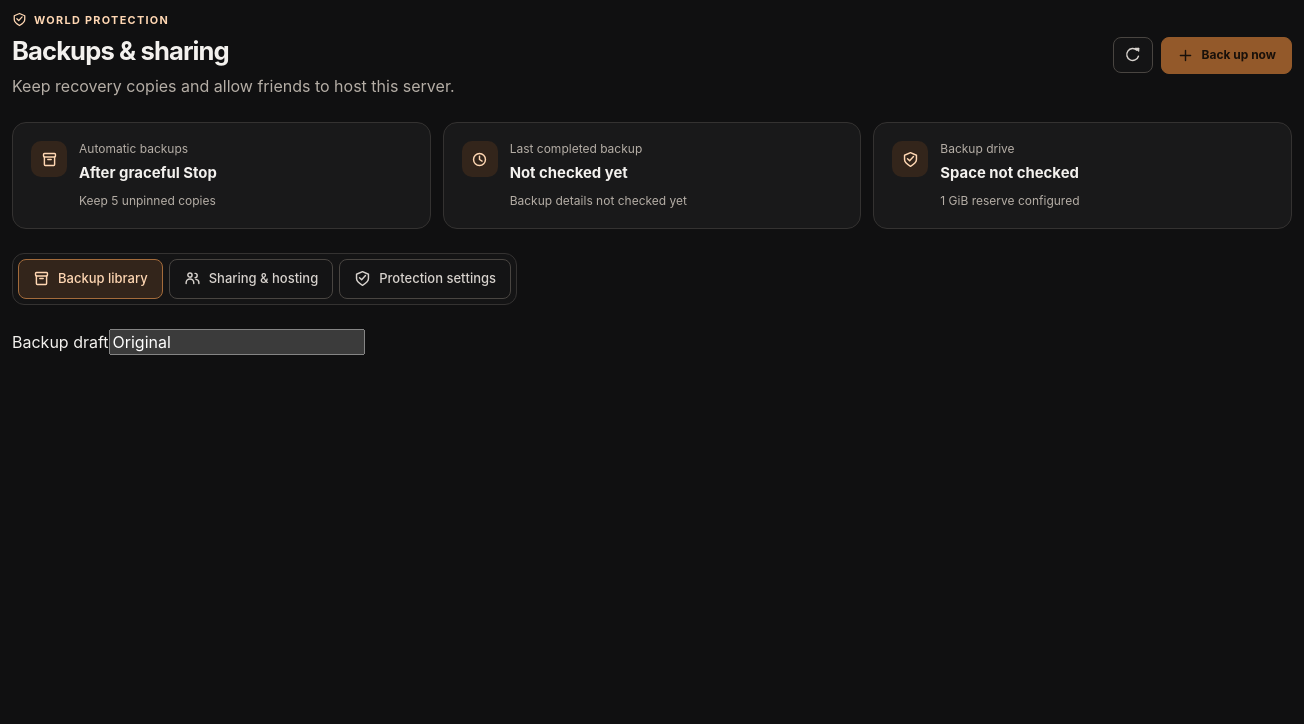
it: Host world protection workspace › keeps disposable trial protection read-only
Click the button "Protection settings". click: (425, 279)
box: [339, 259, 511, 299]
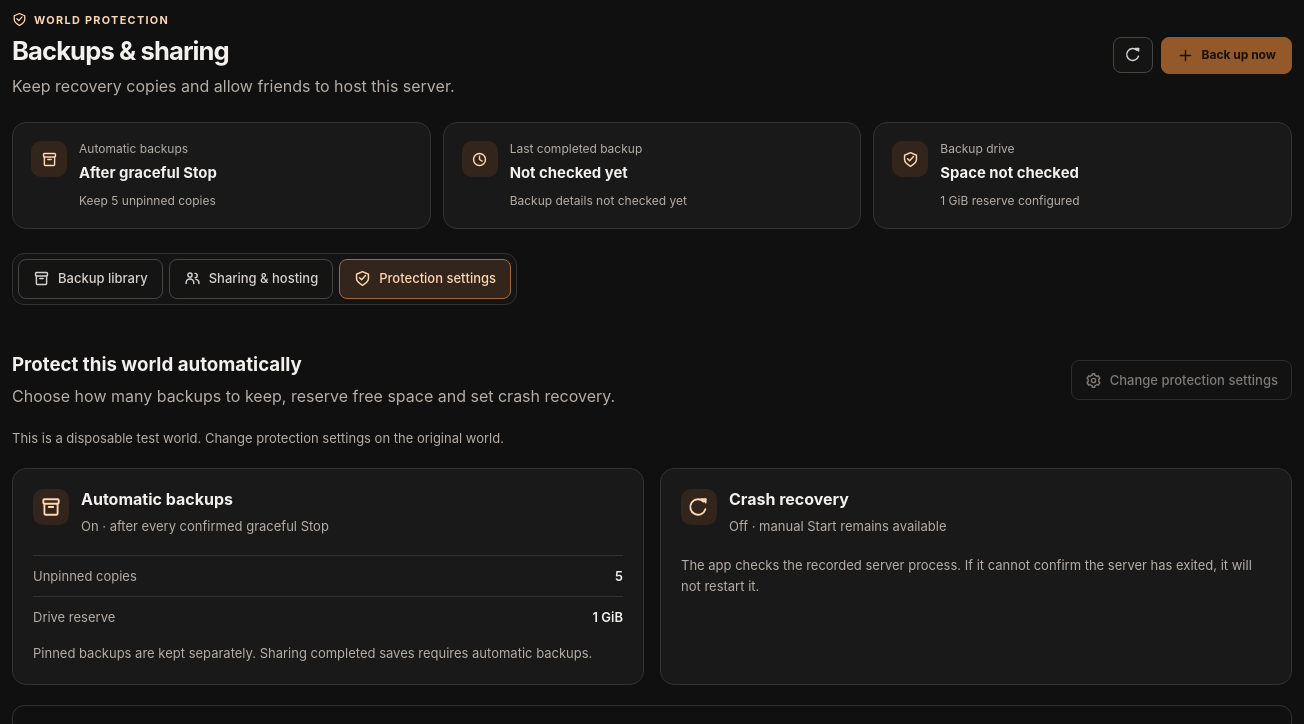
Expected: the button "Back up now" is disabled, [1162, 36, 1292, 74]
Expected: the button "Change protection settings" is disabled, [1071, 360, 1292, 400]
